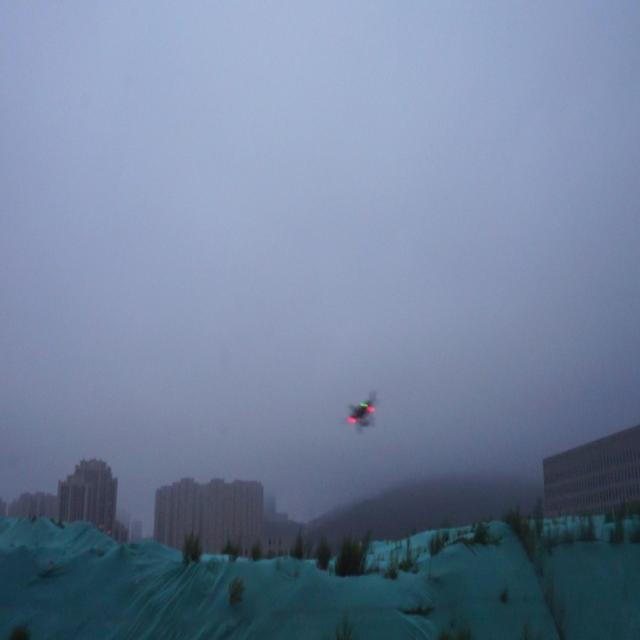drone: (338, 387, 383, 433)
